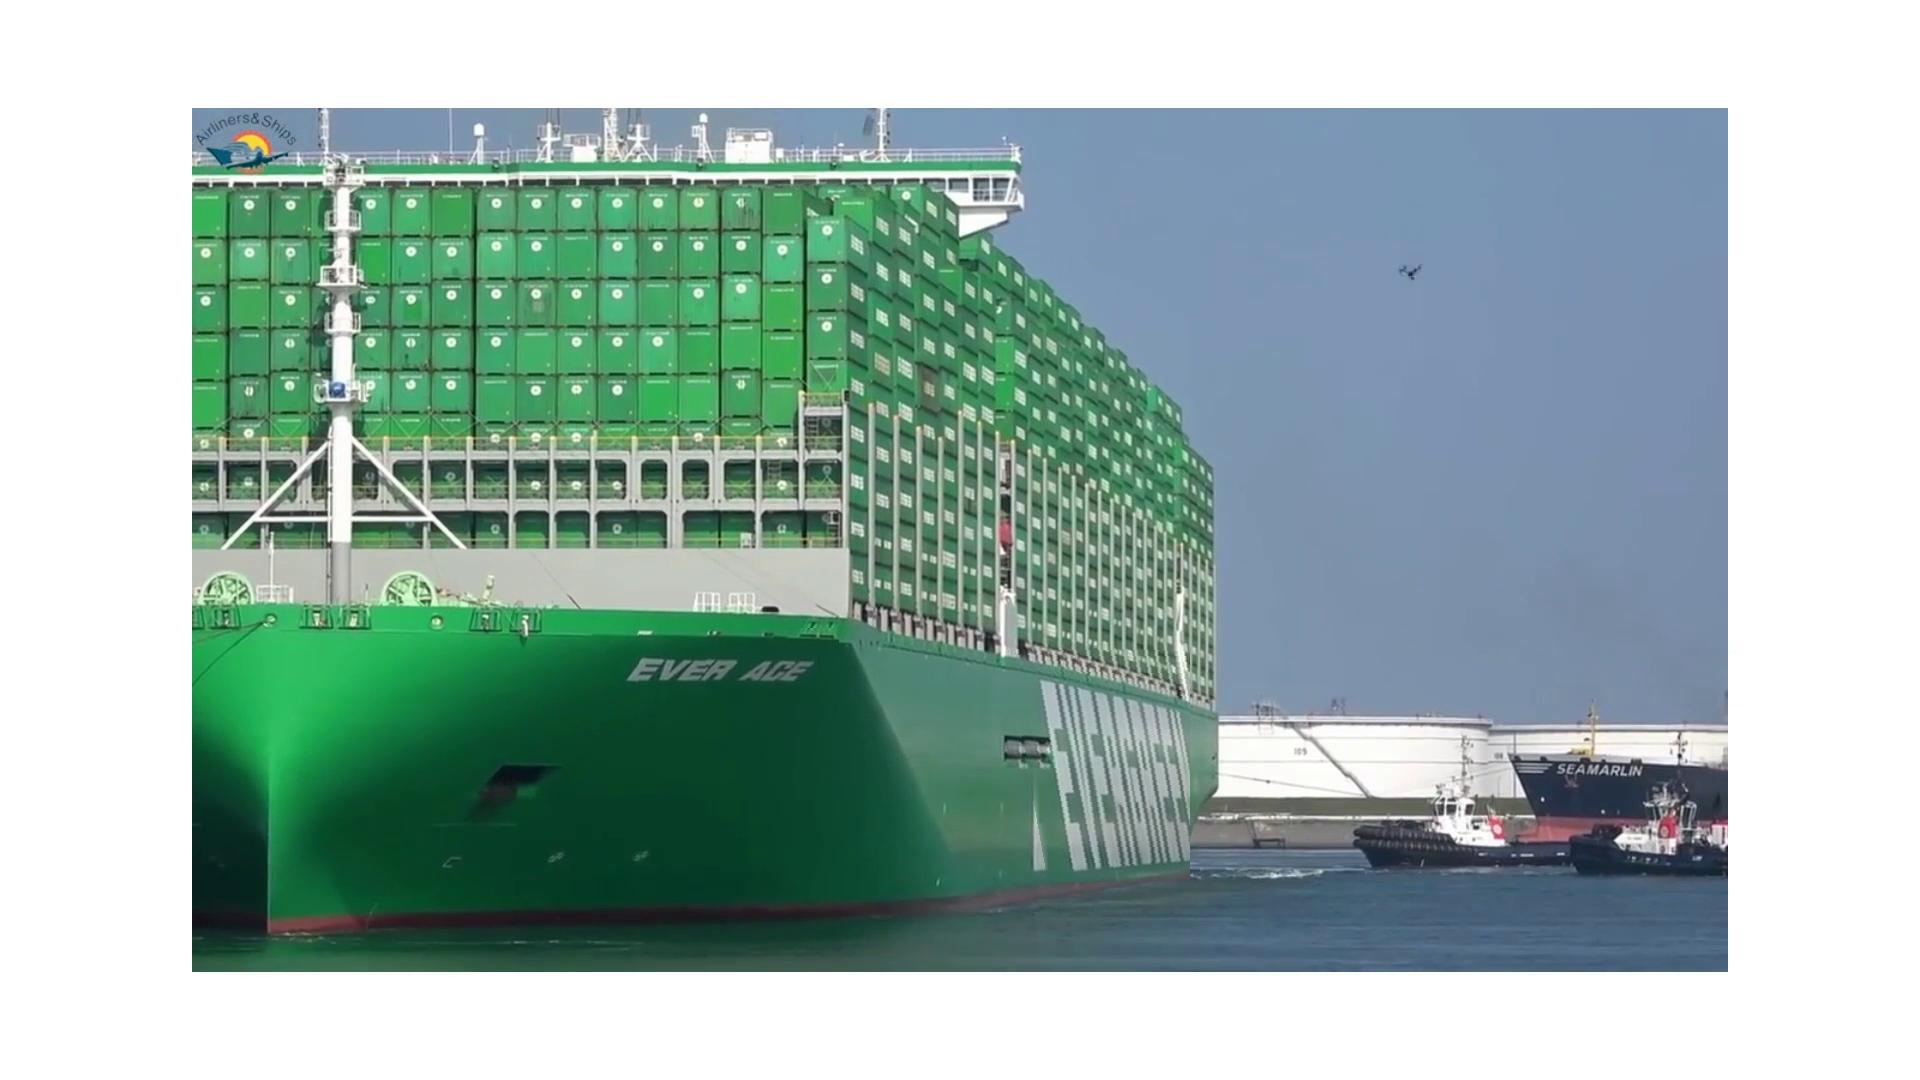OCR: (1006, 646, 1189, 882), (605, 628, 840, 707)
